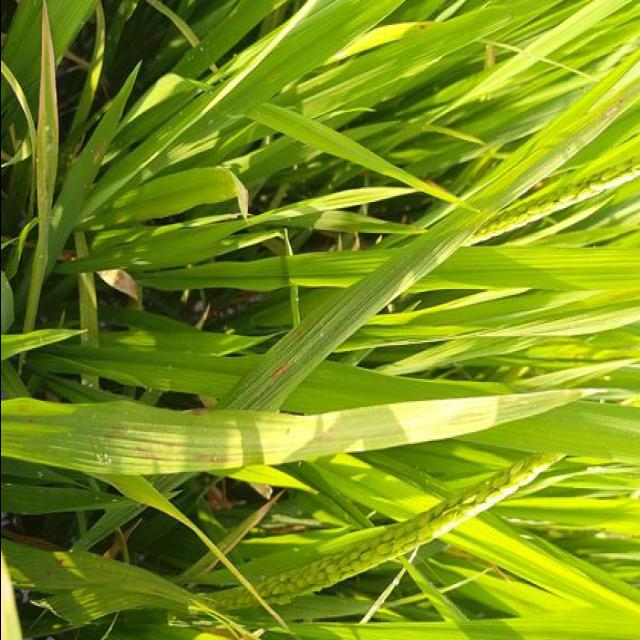Leaf Streak: (93, 406, 380, 473), (267, 361, 289, 385), (288, 323, 307, 342)
